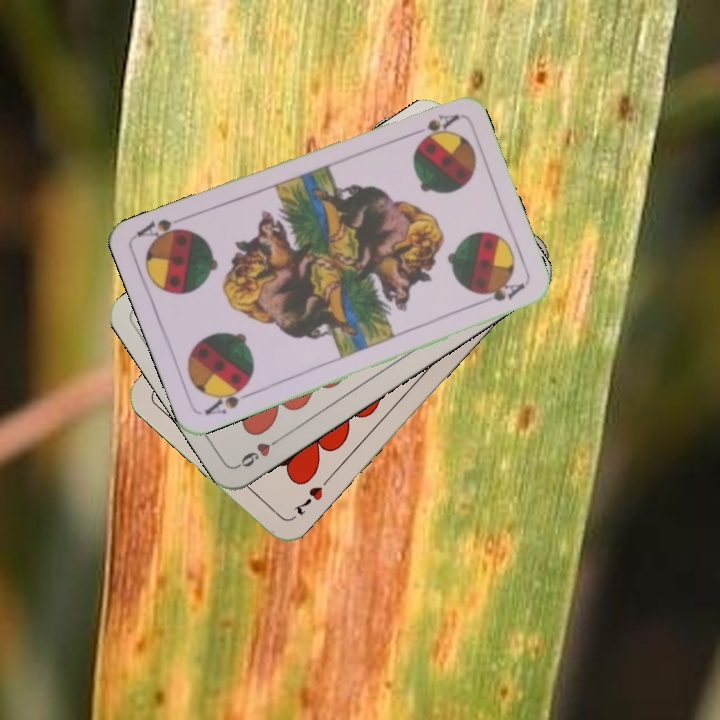H7: (291, 473, 333, 518)
H9: (233, 431, 286, 470)
SA: (200, 379, 256, 418), (404, 110, 461, 143)
